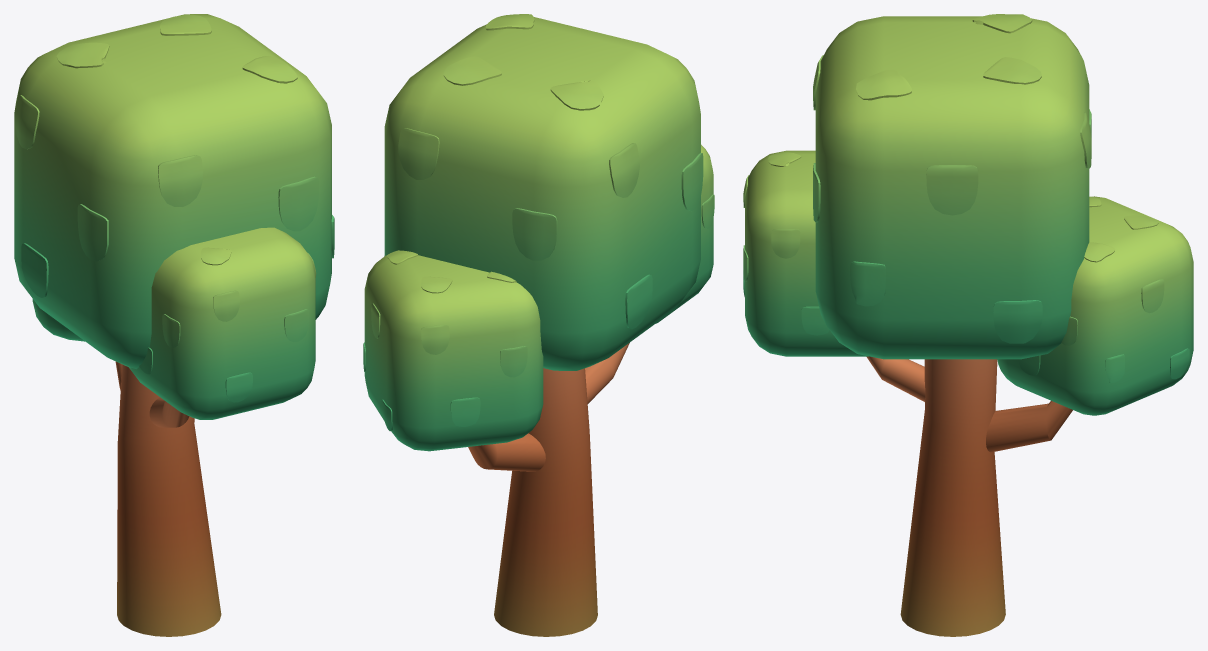
Rendered from Willow01.fbx.
3 views of the same model, side by side, from view 1: azimuth 30°, elevation 25°; view 2: azimuth 150°, elevation 25°; view 3: azimuth 270°, elevation 25° (orthographic).
Visible parts, largest first — view 1: Willow_leaf01, Trunk01; view 2: Willow_leaf01, Trunk01; view 3: Willow_leaf01, Trunk01.
Part boxes in pixels (left/top/right/bottom): Willow_leaf01: left=14, top=14, right=334, bottom=419; Trunk01: left=115, top=361, right=221, bottom=636; Willow_leaf01: left=363, top=14, right=714, bottom=451; Trunk01: left=468, top=342, right=629, bottom=636; Willow_leaf01: left=743, top=14, right=1193, bottom=415; Trunk01: left=866, top=356, right=1072, bottom=636.
Bounding box in the file's own units: 2.04 × 4.58 × 3.29.
